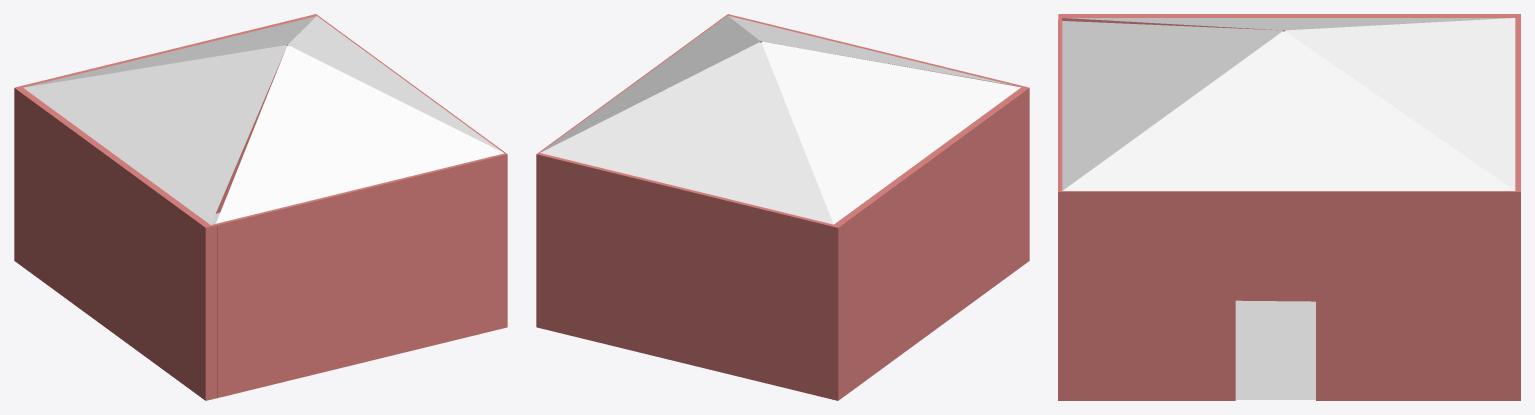
File: store.fbx
3 views of the same model, side by side, from view 1: azimuth 30°, elevation 25°; view 2: azimuth 150°, elevation 25°; view 3: azimuth 270°, elevation 25° (orthographic). The views are drawn at different scales.
Parts seen in each view (by area): view 1: store; view 2: store; view 3: store.
Part boxes in pixels (x1,y1,x2,y2): store: (14,14,507,400); store: (536,14,1029,400); store: (1058,14,1520,400).
Bounding box in the file's own units: 1715 × 1327 × 1886.
